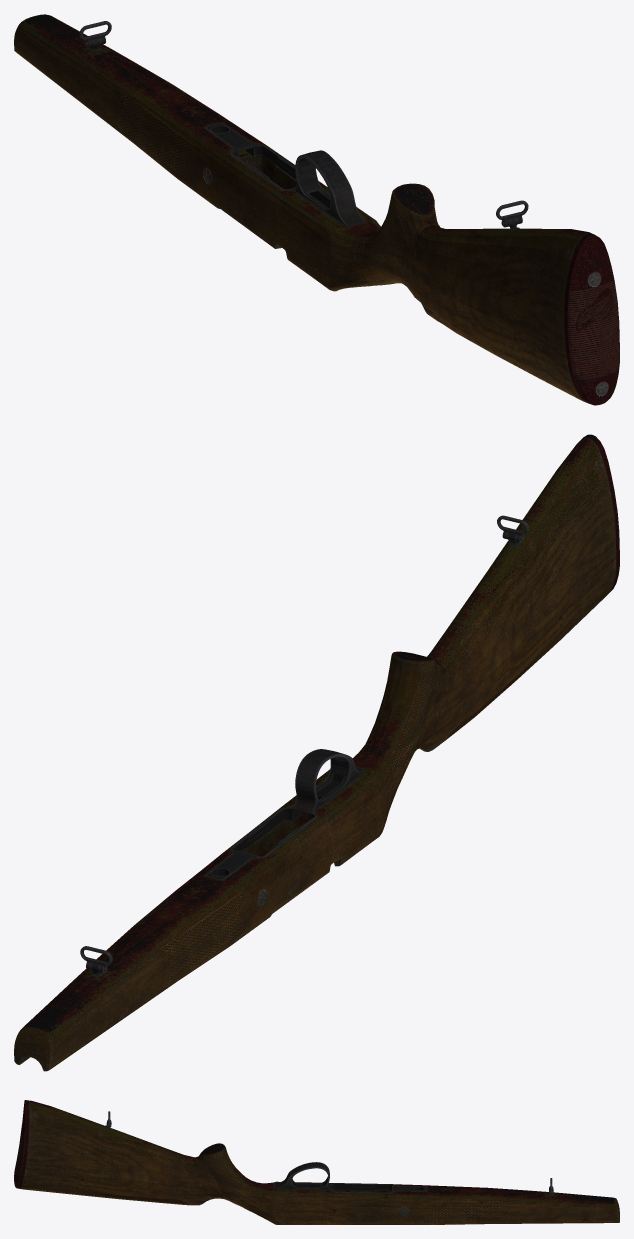
The picture shows the model from 3 angles, top to bottom: view 1: azimuth 30°, elevation 25°; view 2: azimuth 150°, elevation 25°; view 3: azimuth 270°, elevation 25°; orthographic projection. The views are drawn at different scales.
Visible parts, largest first — view 1: TW_5adf23995acfc400185c2aeb_PZ_Import; view 2: TW_5adf23995acfc400185c2aeb_PZ_Import; view 3: TW_5adf23995acfc400185c2aeb_PZ_Import.
Part boxes in pixels (<box>): TW_5adf23995acfc400185c2aeb_PZ_Import: <box>14,14,619,405</box>; TW_5adf23995acfc400185c2aeb_PZ_Import: <box>14,434,619,1071</box>; TW_5adf23995acfc400185c2aeb_PZ_Import: <box>14,1100,619,1224</box>.
Size of the model in its own units: 0.0264 by 0.4666 by 0.1009.
1 material, 1 textured.
